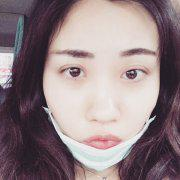WRONG: (41, 45, 162, 171)
